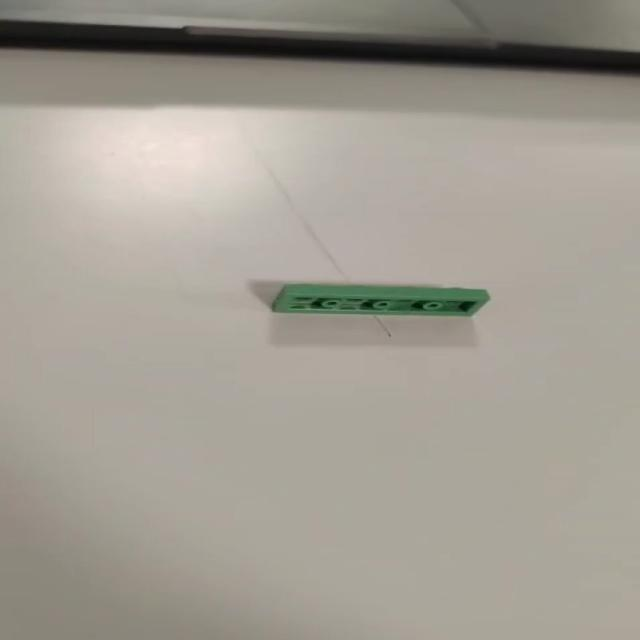C4x1x0: (262, 280, 486, 318)
